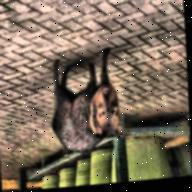boar: (45, 47, 125, 156)
